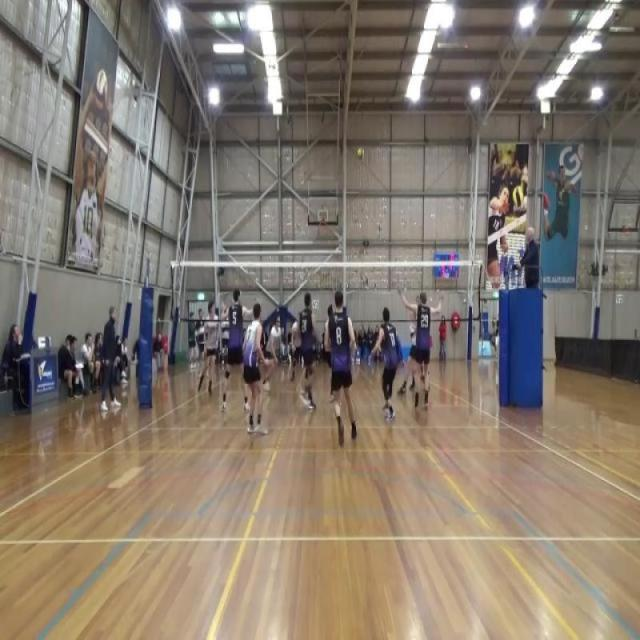volleyball: (94, 68, 107, 112), (512, 185, 524, 207), (357, 148, 364, 160)
